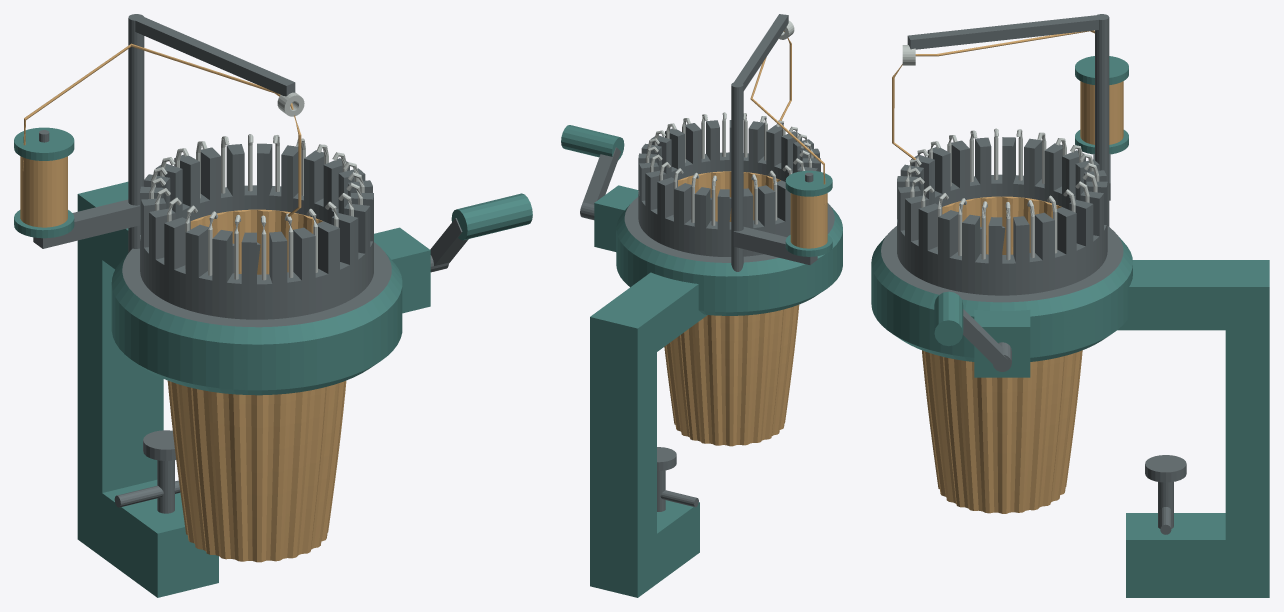
3 views of the same model, side by side, from view 1: azimuth 30°, elevation 25°; view 2: azimuth 150°, elevation 25°; view 3: azimuth 270°, elevation 25° (orthographic). The views are drawn at different scales.
Visible parts, largest first — view 1: WholeOpenSlottedNeedleCylinder, WholeOpenEndedHangingRibbedTextileTube, WholeRearCClampBody, WholeOpenAnnularMachineCase, WholeSupplyYarnSpool, WholeRearGuideMast, WholeHighGuideArm, WholeSideDriveHousing, WholeSideCrankGrip, WholeRearSpoolSupportArm, WholeContinuousFeedYarn, WholeSideCrankArm (+3 smaller); view 2: WholeRearCClampBody, WholeOpenEndedHangingRibbedTextileTube, WholeOpenSlottedNeedleCylinder, WholeOpenAnnularMachineCase, WholeSupplyYarnSpool, WholeRearGuideMast, WholeSideDriveHousing, WholeSideCrankGrip, WholeRearSpoolSupportArm, WholeHighGuideArm, WholeSideCrankArm, WholeContinuousFeedYarn (+2 smaller); view 3: WholeRearCClampBody, WholeOpenSlottedNeedleCylinder, WholeOpenEndedHangingRibbedTextileTube, WholeOpenAnnularMachineCase, WholeSupplyYarnSpool, WholeHighGuideArm, WholeSideDriveHousing, WholeRearGuideMast, WholeSideCrankGrip, WholeSideCrankArm, WholeClampPressurePad, WholeContinuousFeedYarn (+1 smaller).
Boxes of the visible parts, box(x1,y1,x2,y2) form: WholeOpenSlottedNeedleCylinder: box(140, 143, 373, 319); WholeOpenEndedHangingRibbedTextileTube: box(167, 209, 346, 562); WholeRearCClampBody: box(77, 181, 218, 597); WholeOpenAnnularMachineCase: box(111, 242, 402, 395); WholeSupplyYarnSpool: box(14, 127, 74, 238); WholeRearGuideMast: box(128, 14, 144, 252); WholeHighGuideArm: box(132, 15, 295, 96); WholeSideDriveHousing: box(374, 227, 430, 313); WholeSideCrankGrip: box(451, 193, 532, 240); WholeRearSpoolSupportArm: box(33, 199, 139, 248); WholeContinuousFeedYarn: box(22, 43, 301, 216); WholeSideCrankArm: box(430, 218, 468, 265); WholeRearCClampBody: box(590, 272, 707, 597); WholeOpenEndedHangingRibbedTextileTube: box(664, 171, 799, 446); WholeOpenSlottedNeedleCylinder: box(638, 120, 820, 256); WholeOpenAnnularMachineCase: box(616, 197, 842, 315); WholeSupplyYarnSpool: box(785, 170, 832, 256); WholeRearGuideMast: box(731, 82, 743, 271); WholeSideDriveHousing: box(594, 185, 638, 251); WholeSideCrankGrip: box(561, 125, 624, 160); WholeRearSpoolSupportArm: box(733, 227, 817, 264); WholeHighGuideArm: box(733, 14, 788, 90); WholeSideCrankArm: box(582, 147, 620, 204); WholeContinuousFeedYarn: box(750, 31, 825, 204); WholeRearCClampBody: box(1117, 260, 1269, 597); WholeOpenSlottedNeedleCylinder: box(897, 137, 1107, 295); WholeOpenEndedHangingRibbedTextileTube: box(922, 196, 1082, 513); WholeOpenAnnularMachineCase: box(871, 226, 1132, 361); WholeSupplyYarnSpool: box(1075, 56, 1128, 154); WholeHighGuideArm: box(907, 15, 1102, 49); WholeSideDriveHousing: box(974, 309, 1030, 377); WholeRearGuideMast: box(1095, 14, 1109, 226); WholeSideCrankGrip: box(934, 291, 963, 346); WholeSideCrankArm: box(963, 309, 1007, 367); WholeClampPressurePad: box(1145, 455, 1186, 482); WholeContinuousFeedYarn: box(892, 30, 1094, 159).
Size of the model in its own units: 0.549 by 0.745 by 0.499.
